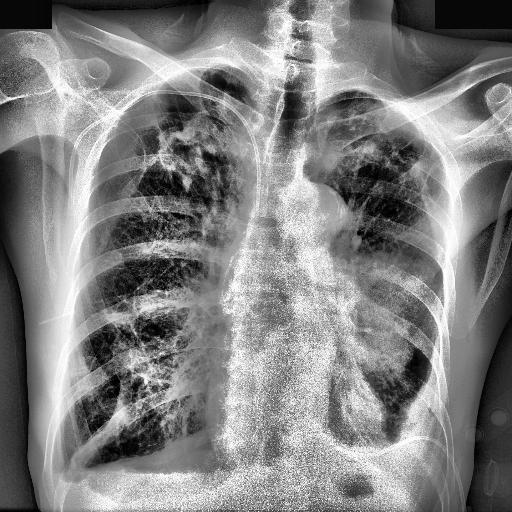0- Aortic enlargement: (279, 180, 349, 247), (282, 179, 346, 251), (294, 182, 345, 238)
10- Pleural effusion: (394, 356, 440, 491), (384, 360, 446, 456), (401, 337, 442, 462), (49, 451, 129, 494), (44, 450, 78, 504), (54, 466, 79, 498)
11- Pleural thickening: (384, 360, 446, 456), (49, 451, 129, 494), (168, 64, 250, 88), (44, 450, 78, 504), (322, 84, 380, 98), (54, 466, 79, 498), (342, 88, 378, 102)
13- Pulmonary fibrosis: (72, 286, 180, 464), (150, 67, 248, 192), (154, 94, 240, 222), (101, 292, 168, 432), (348, 91, 428, 179), (341, 117, 417, 171)
2- Calcification: (311, 184, 346, 219)
4- Consolidation: (327, 250, 441, 382)
6- Infiltration: (154, 94, 240, 222), (157, 105, 228, 208), (107, 330, 184, 424), (360, 360, 430, 436)
7- Lung Opacity: (324, 254, 438, 378)
8- Nodule-Mass: (324, 250, 438, 378)
